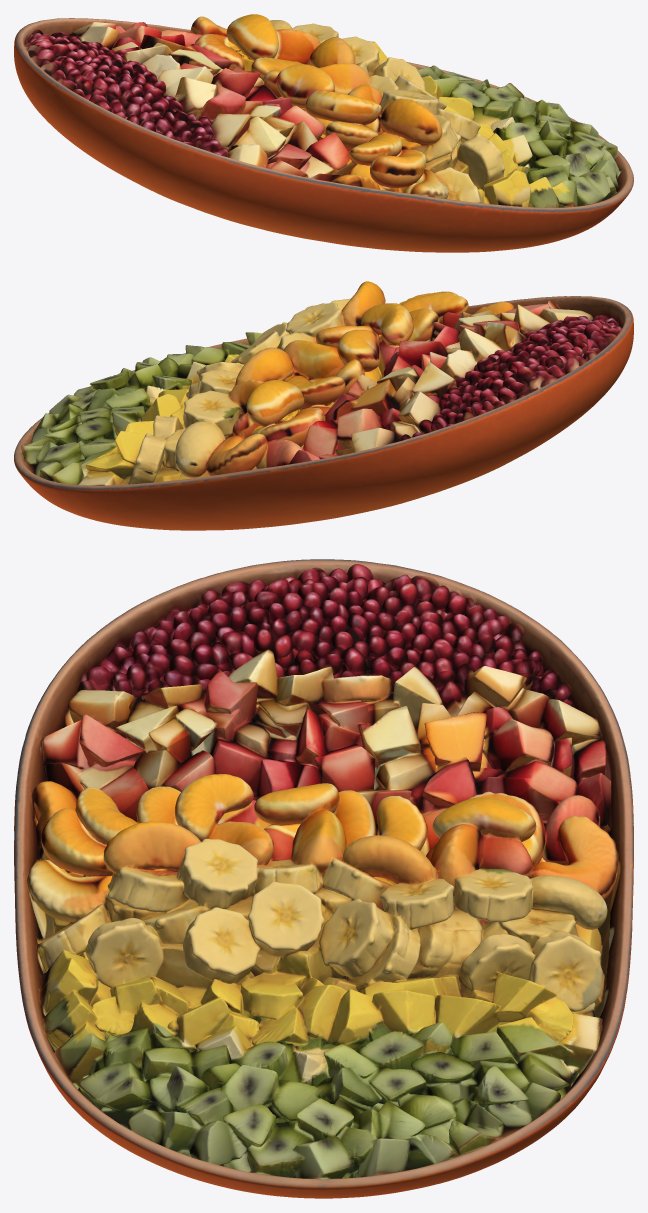
File: Takoyaki.glb
The picture shows the model from 3 angles, top to bottom: view 1: azimuth 30°, elevation 25°; view 2: azimuth 150°, elevation 25°; view 3: azimuth 270°, elevation 25°; orthographic projection. The views are drawn at different scales.
Visible parts, largest first — view 1: tripo_node_204d2aed-ce89-466a-a667-ae6239b06f23; view 2: tripo_node_204d2aed-ce89-466a-a667-ae6239b06f23; view 3: tripo_node_204d2aed-ce89-466a-a667-ae6239b06f23.
Boxes of the visible parts, x1=… form: tripo_node_204d2aed-ce89-466a-a667-ae6239b06f23: x1=14, y1=14, x2=633, y2=252; tripo_node_204d2aed-ce89-466a-a667-ae6239b06f23: x1=14, y1=281, x2=633, y2=530; tripo_node_204d2aed-ce89-466a-a667-ae6239b06f23: x1=14, y1=559, x2=633, y2=1198.
Size of the model in its own units: 0.0882 by 0.0352 by 0.0631.
1 material, 1 textured.
